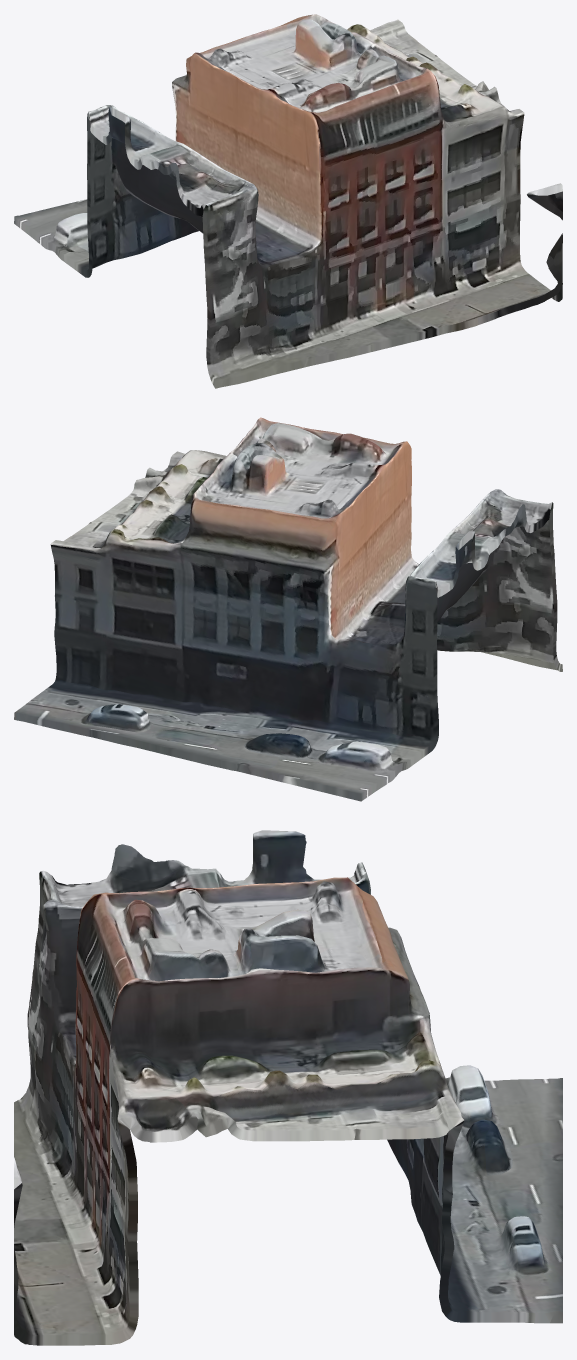
File: z20-167760-405235-h0-yup-uvflip-v3-world.glb
3 views of the same model, one above another, from view 1: azimuth 30°, elevation 25°; view 2: azimuth 150°, elevation 25°; view 3: azimuth 270°, elevation 25° (orthographic). The views are drawn at different scales.
Size of the model in its own units: 30.24 by 20.32 by 30.32.
Materials: 1 (1 with a texture image).
